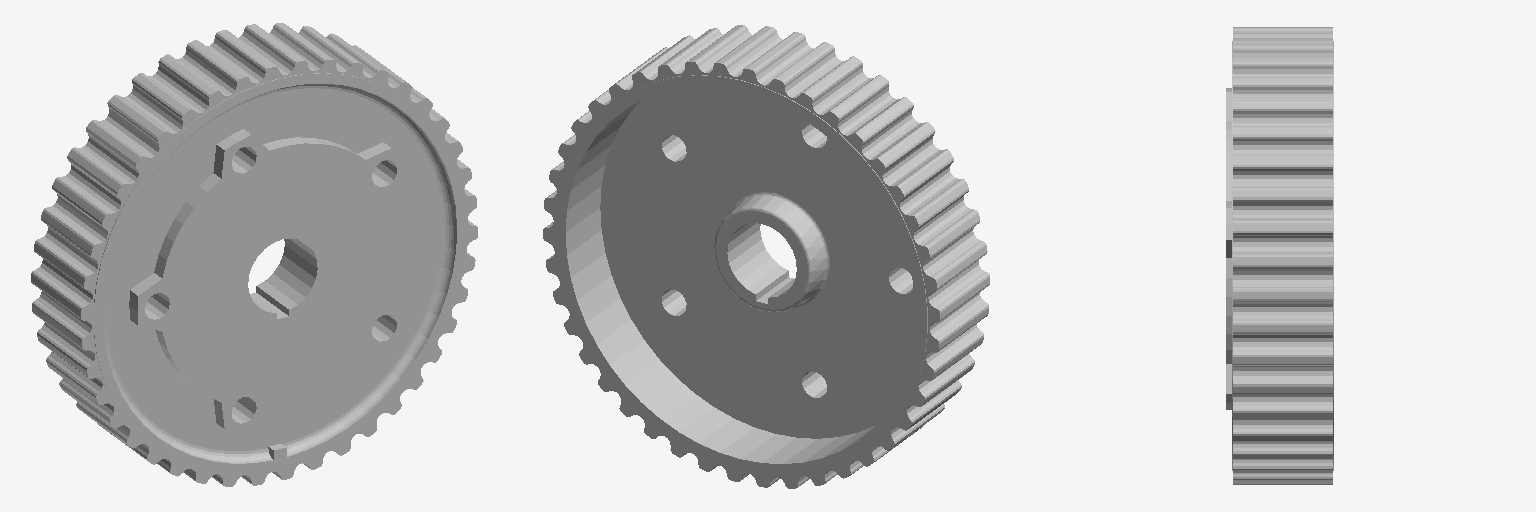
Rendered from Механизм поворота впускного распределительного вала со шкивом в сборе.obj.
3 renders of one model, left to right at view 1: azimuth 30°, elevation 25°; view 2: azimuth 150°, elevation 25°; view 3: azimuth 270°, elevation 25°, orthographic.
Parts seen in each view (by area): view 1: Механизм_поворота_впускного_распр; view 2: Механизм_поворота_впускного_распр; view 3: Механизм_поворота_впускного_распр.
Boxes of the visible parts, x1=… form: Механизм_поворота_впускного_распр: x1=31, y1=23, x2=477, y2=486; Механизм_поворота_впускного_распр: x1=543, y1=25, x2=989, y2=488; Механизм_поворота_впускного_распр: x1=1226, y1=27, x2=1333, y2=484.
Bounding box in the file's own units: 126 × 126 × 29.5.